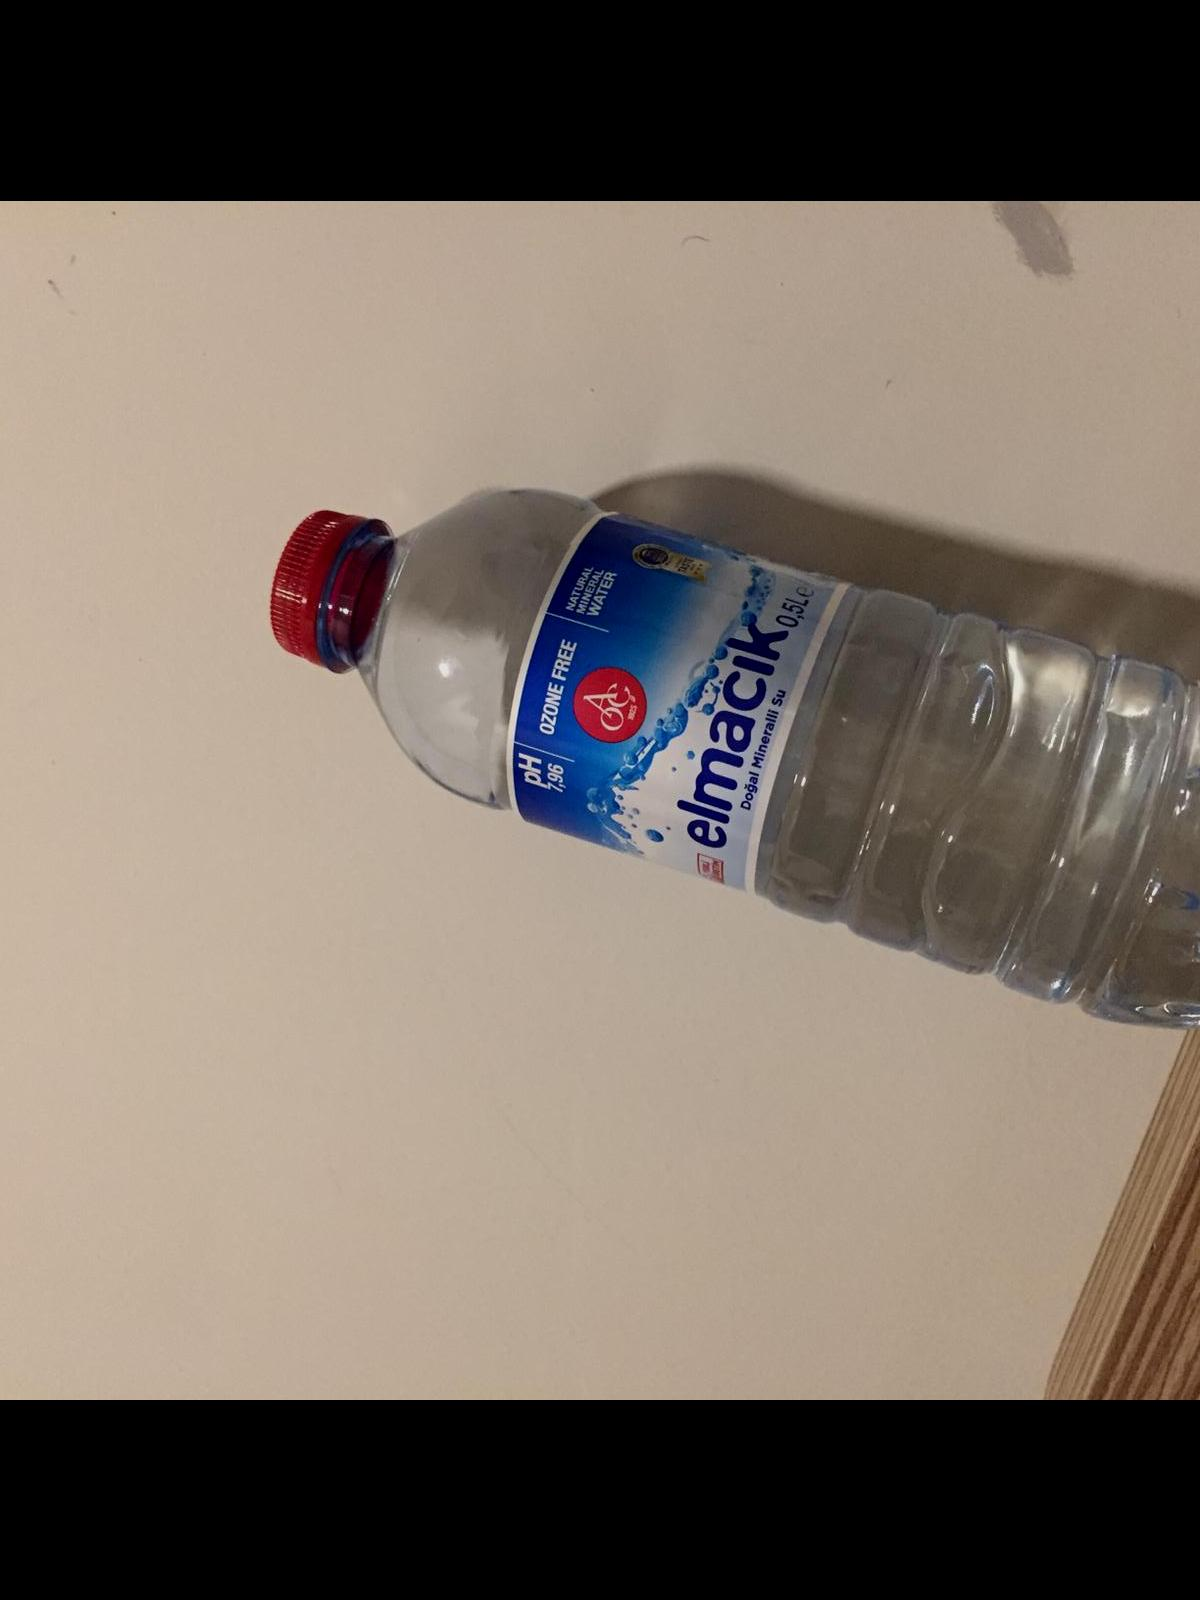bottle: (263, 483, 1200, 1028)
